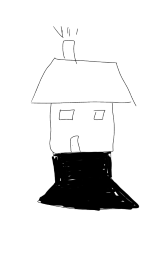door: (66, 131, 85, 155)
open_window: (54, 107, 79, 123), (90, 107, 107, 123)
roof: (24, 57, 141, 107)
shadow: (33, 150, 142, 219)
smoking_chimney: (51, 22, 86, 66)
wall: (44, 97, 120, 156)
